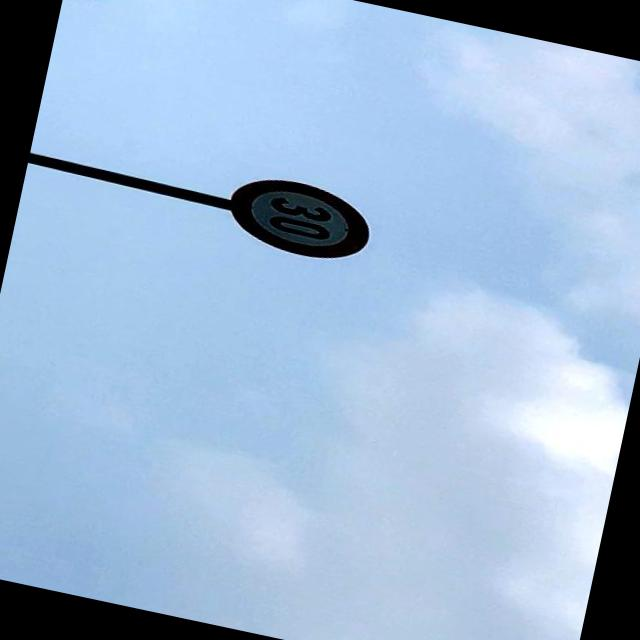P-127: (222, 170, 378, 270)
